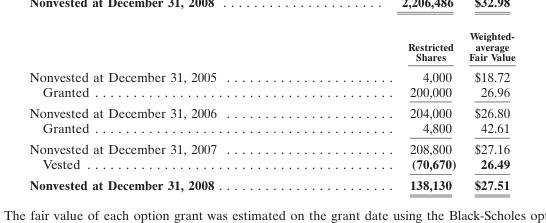table: (28, 29, 514, 192)
table column: (28, 29, 311, 192), (311, 29, 462, 192), (462, 29, 514, 192)
table column header: (28, 29, 514, 65)
table row: (28, 29, 514, 65), (28, 119, 514, 138), (28, 65, 514, 83), (28, 83, 514, 101), (28, 101, 514, 119), (28, 138, 514, 156), (28, 156, 514, 174), (28, 174, 514, 192)
